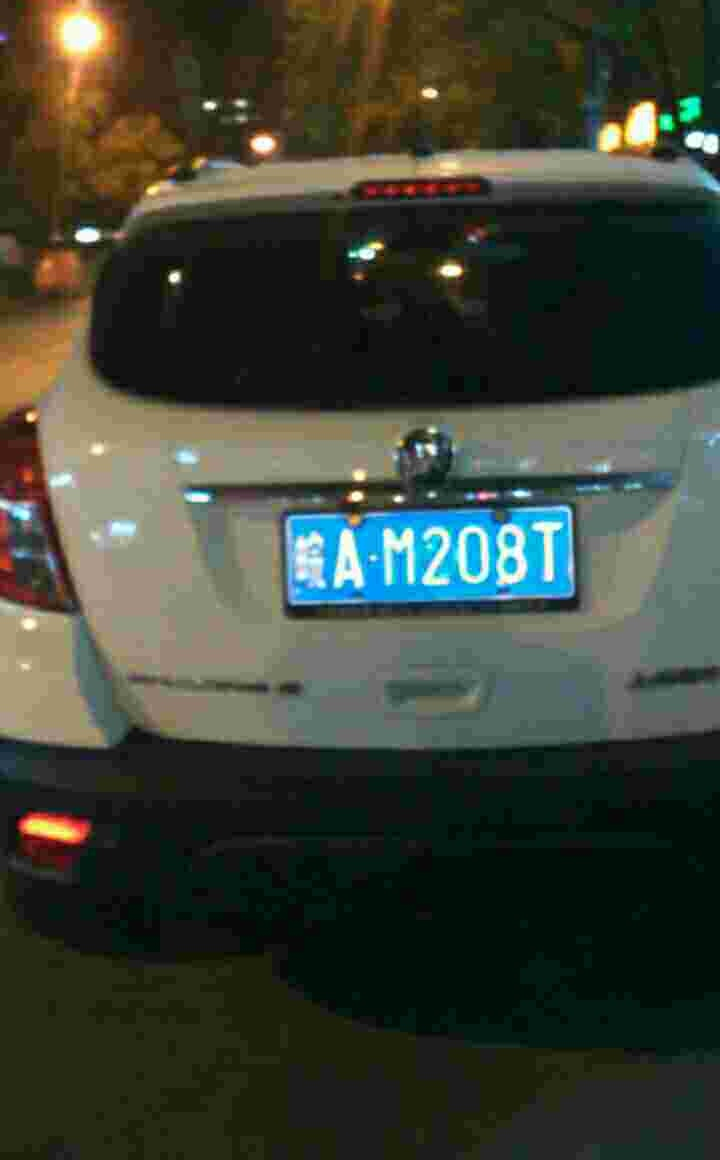license_plate: (285, 505, 577, 605)
